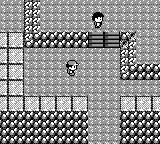main: (66, 60, 79, 78)
no-caminable: (0, 32, 88, 111), (24, 0, 89, 48), (0, 111, 89, 143), (122, 31, 159, 79), (122, 113, 159, 143), (121, 95, 159, 111)
npc: (92, 11, 104, 28)
